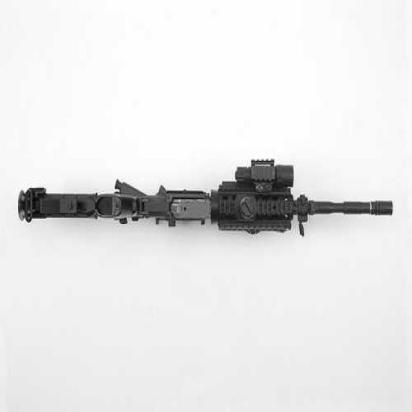Gun: (15, 138, 396, 260)
